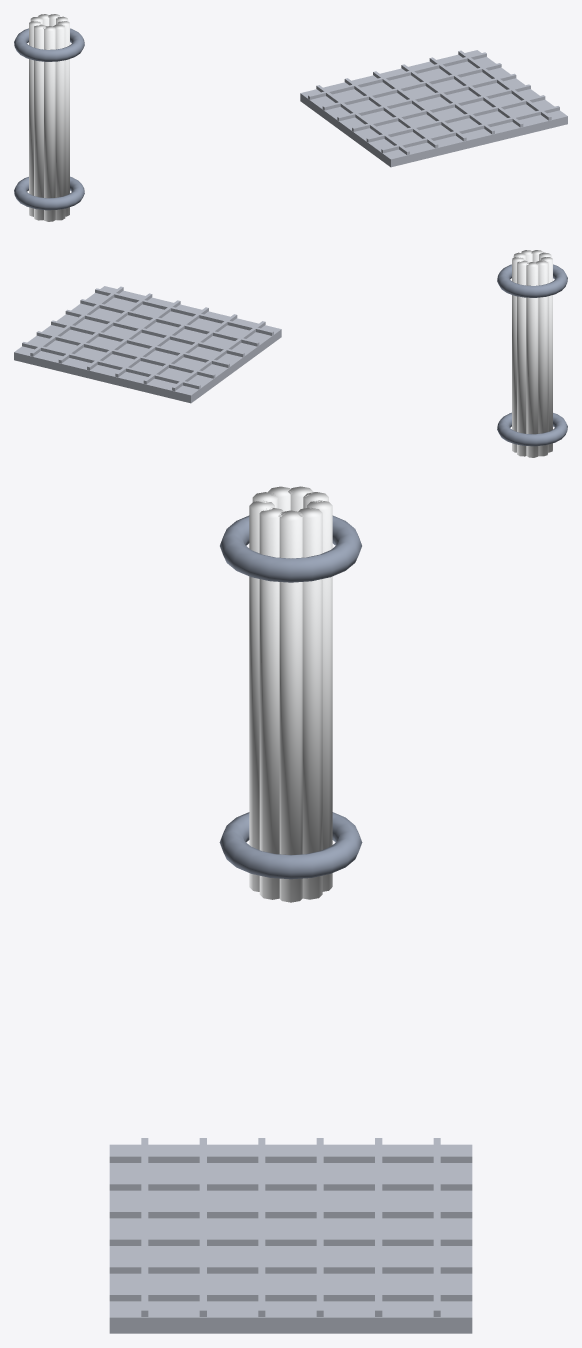
Rendered from products_fiber.glb.
3 renders of one model, top to bottom at view 1: azimuth 30°, elevation 25°; view 2: azimuth 150°, elevation 25°; view 3: azimuth 270°, elevation 25°, orthographic. The views are drawn at different scales.
Parts seen in each view (by area): view 1: textile_weave, fiber_tow, fiber_tow_band_a, fiber_tow_band_b, textile_weft_2, textile_weft_4, textile_weft_5, textile_weft_6, textile_weft_3, textile_weft_1, textile_warp_2, textile_warp_5 (+4 smaller); view 2: textile_weave, fiber_tow, fiber_tow_band_a, fiber_tow_band_b, textile_weft_2, textile_weft_1, textile_weft_3, textile_weft_6, textile_weft_5, textile_weft_4, textile_warp_5, textile_warp_1 (+4 smaller); view 3: textile_weave, fiber_tow, fiber_tow_band_b, fiber_tow_band_a, textile_warp_2, textile_warp_1, textile_warp_4, textile_warp_5, textile_warp_6, textile_warp_3, textile_weft_3, textile_weft_5 (+4 smaller).
Boxes of the visible parts, x1,y1,x2,y2 form: textile_weave: (300, 50, 567, 167); fiber_tow: (29, 14, 69, 221); fiber_tow_band_a: (14, 176, 84, 210); fiber_tow_band_b: (14, 28, 84, 61); textile_weft_2: (366, 95, 545, 142); textile_weft_4: (337, 73, 516, 121); textile_weft_5: (322, 63, 501, 110); textile_weft_6: (308, 52, 486, 99); textile_weft_3: (352, 84, 530, 131); textile_weft_1: (381, 106, 559, 153); textile_warp_2: (344, 78, 438, 148); textile_warp_5: (429, 57, 523, 127); textile_weave: (14, 286, 281, 403); fiber_tow: (512, 250, 552, 457); fiber_tow_band_a: (497, 412, 567, 446); fiber_tow_band_b: (497, 264, 567, 297); textile_weft_2: (80, 299, 259, 346); textile_weft_1: (95, 288, 273, 335); textile_weft_3: (65, 309, 244, 357); textile_weft_6: (22, 342, 200, 389); textile_weft_5: (36, 331, 215, 378); textile_weft_4: (51, 320, 229, 367); textile_warp_5: (58, 293, 152, 363); textile_warp_1: (172, 321, 265, 391); textile_weave: (109, 1144, 472, 1333); fiber_tow: (249, 486, 332, 902); fiber_tow_band_b: (220, 515, 361, 582); fiber_tow_band_a: (219, 812, 362, 879); textile_warp_2: (109, 1181, 472, 1190); textile_warp_1: (109, 1153, 472, 1162); textile_warp_4: (109, 1236, 472, 1245); textile_warp_5: (109, 1264, 472, 1273); textile_warp_6: (109, 1292, 472, 1301); textile_warp_3: (109, 1209, 472, 1218); textile_weft_3: (258, 1138, 265, 1316); textile_weft_5: (375, 1138, 382, 1316).
Bounding box in the file's own units: 1.99 × 0.72 × 0.62.
